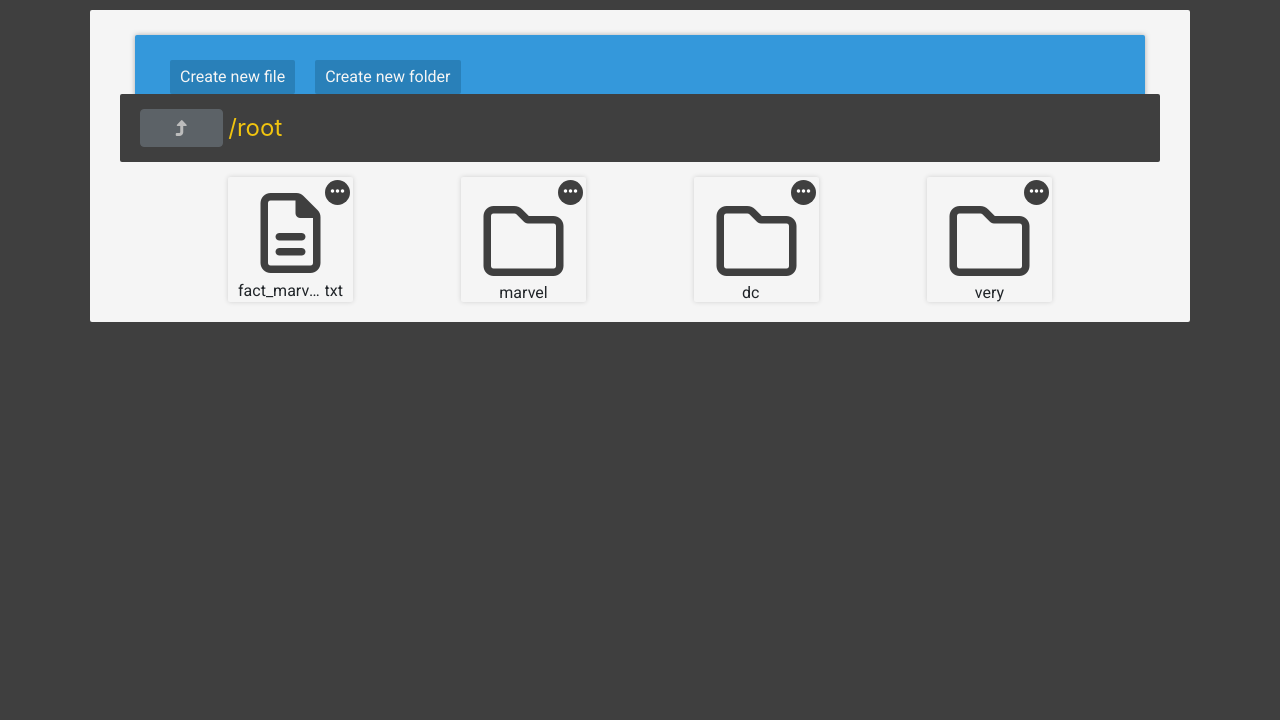
Test: Tests to make sure the create functions work › Make sure a new file is created when modal is submitted
Click the button "Create new file" at point(233, 77), box [170,60,295,94]
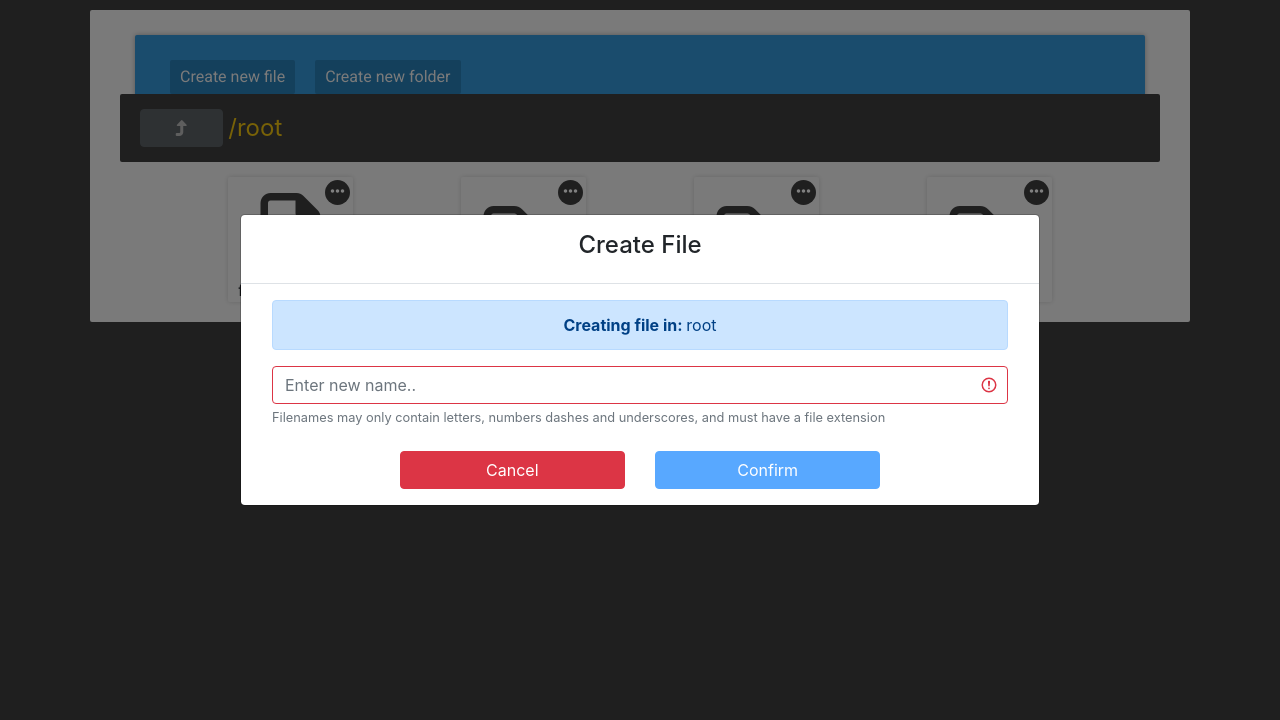
Type "Marvelsucks.txt" into the field with placeholder "Enter new name.." at point(640, 385), box [272,366,1008,404]
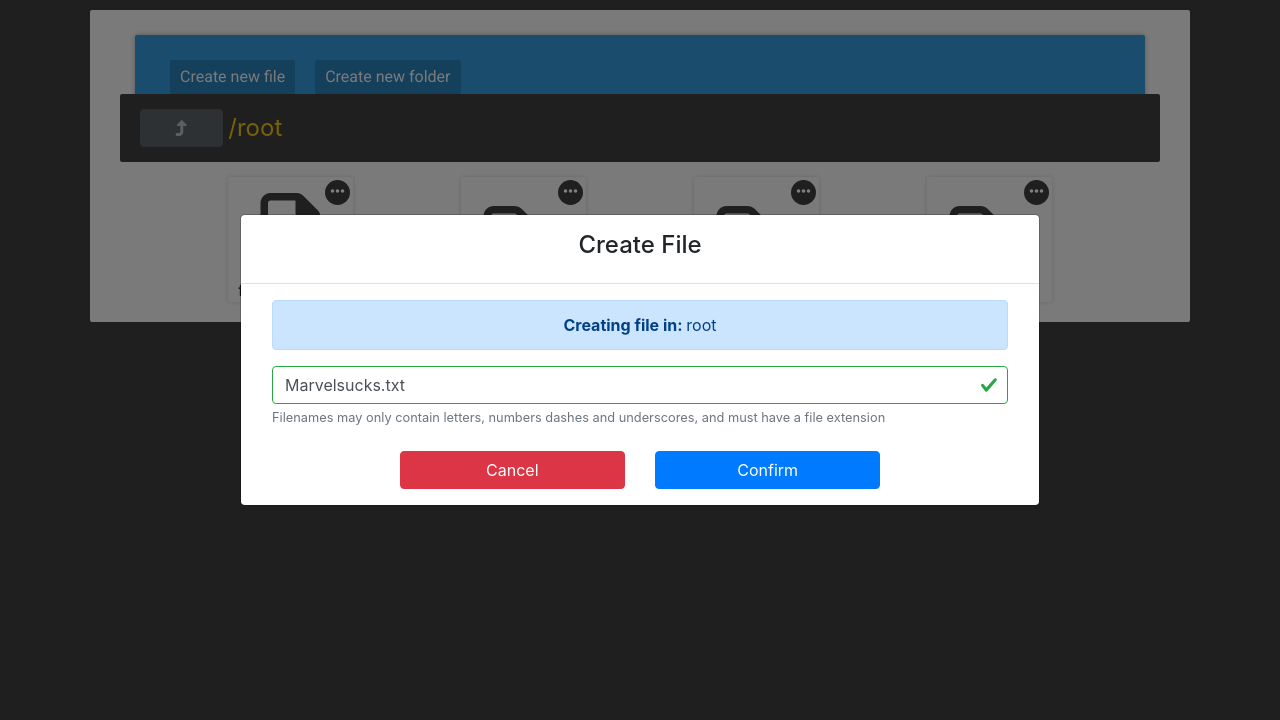
Click the button "Confirm" at point(768, 470), box [655,452,880,490]
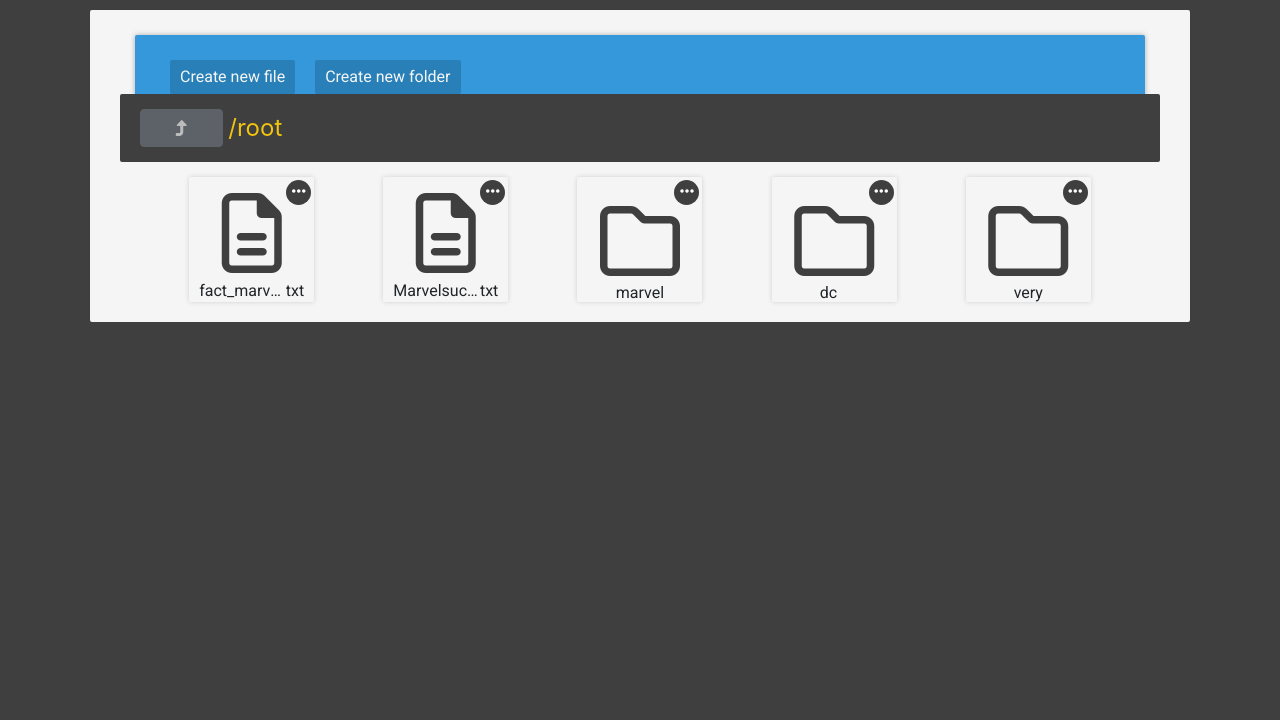
expect the text "Marvelsucks." is shown: met, box [393,279,480,302]
